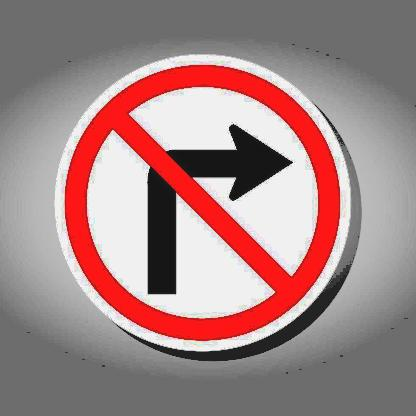No right turn: (58, 54, 347, 343)
